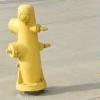a fire hydrant: (8, 2, 47, 92)
